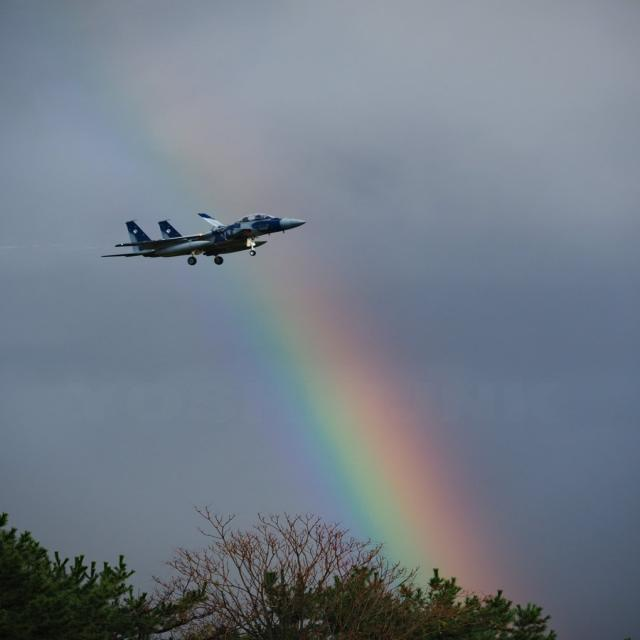MIL_Plane: (100, 212, 307, 266)
